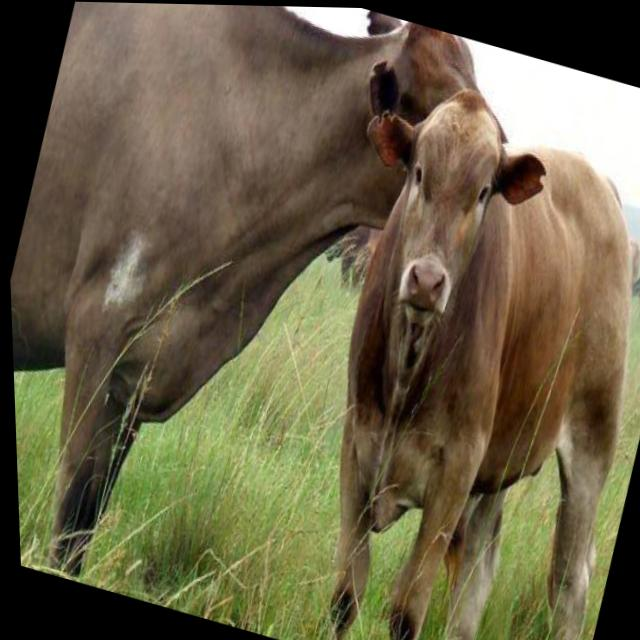cowFace: (298, 26, 579, 390)
